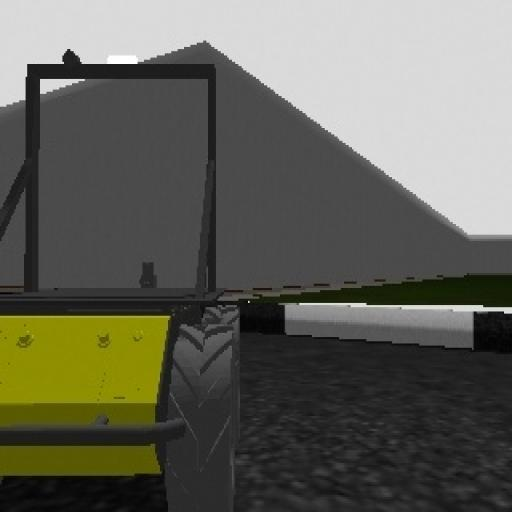huskya200: (1, 33, 256, 512)
